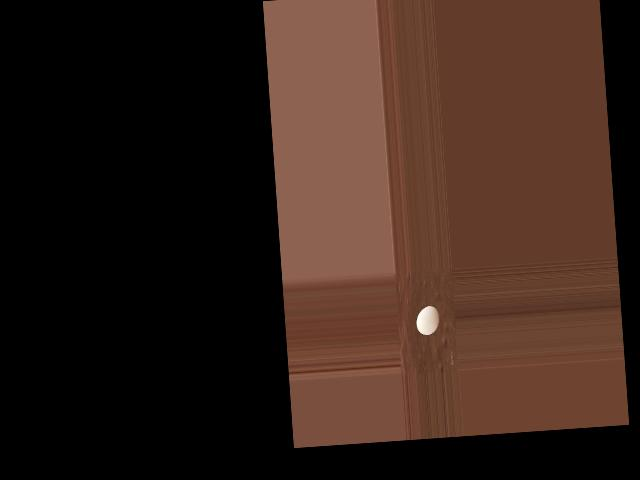egg: (415, 305, 440, 335)
